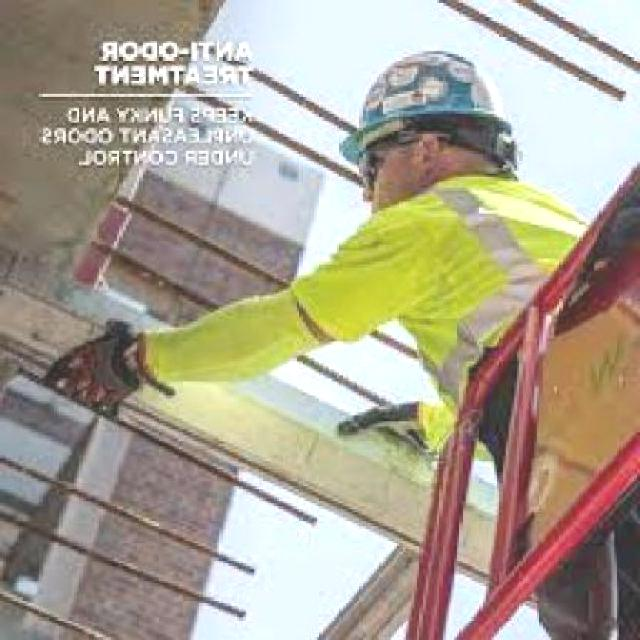vest: (294, 175, 597, 460)
